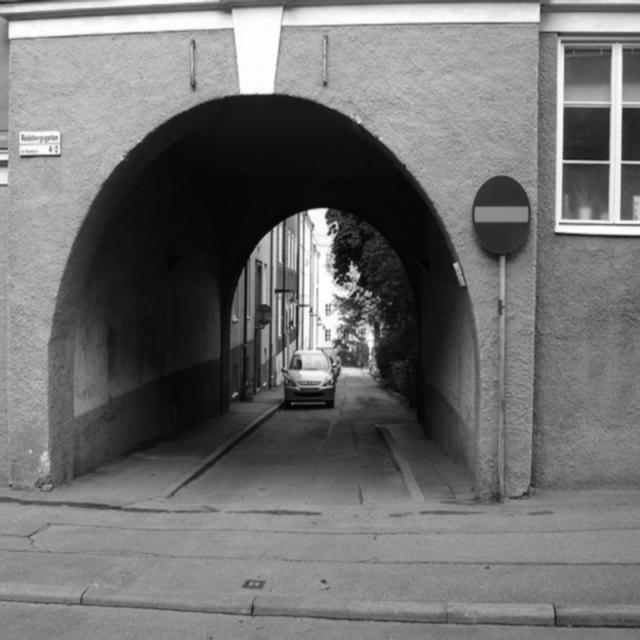car: (280, 347, 333, 408), (326, 353, 336, 380), (331, 352, 340, 375)
pole: (492, 255, 509, 501)
